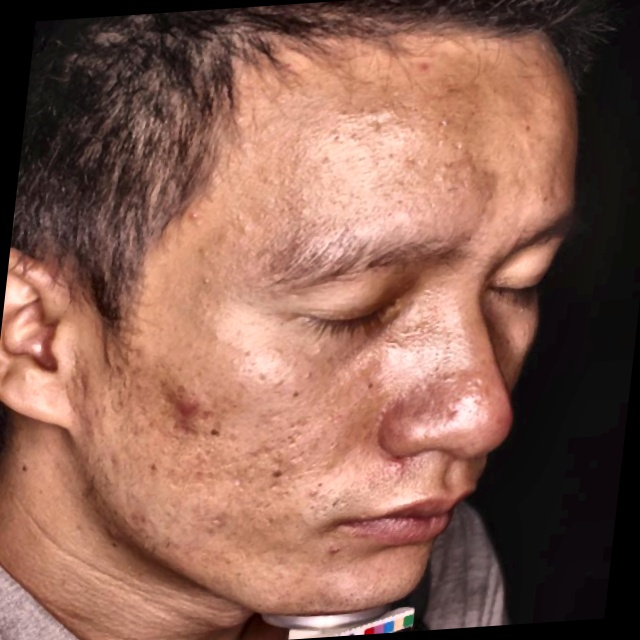comedone: (167, 386, 211, 422), (404, 54, 434, 81)
